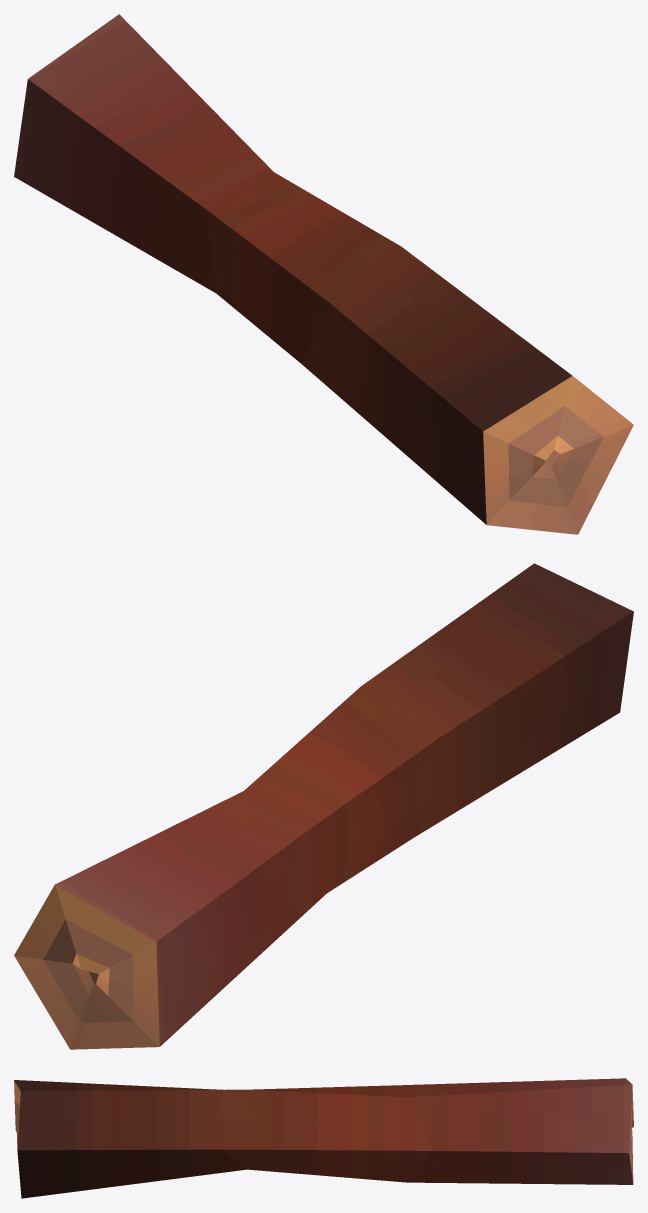
File: Wood_Beam_002.FBX
3 renders of one model, top to bottom at view 1: azimuth 30°, elevation 25°; view 2: azimuth 150°, elevation 25°; view 3: azimuth 270°, elevation 25°, orthographic. The views are drawn at different scales.
Visible parts, largest first — view 1: Wood_Beam_002; view 2: Wood_Beam_002; view 3: Wood_Beam_002.
Part boxes in pixels (x1,y1,x2,y2): Wood_Beam_002: (14,14,633,534); Wood_Beam_002: (14,563,633,1049); Wood_Beam_002: (14,1078,633,1198).
Size of the model in its own units: 0.0949 by 0.5067 by 0.1049.
